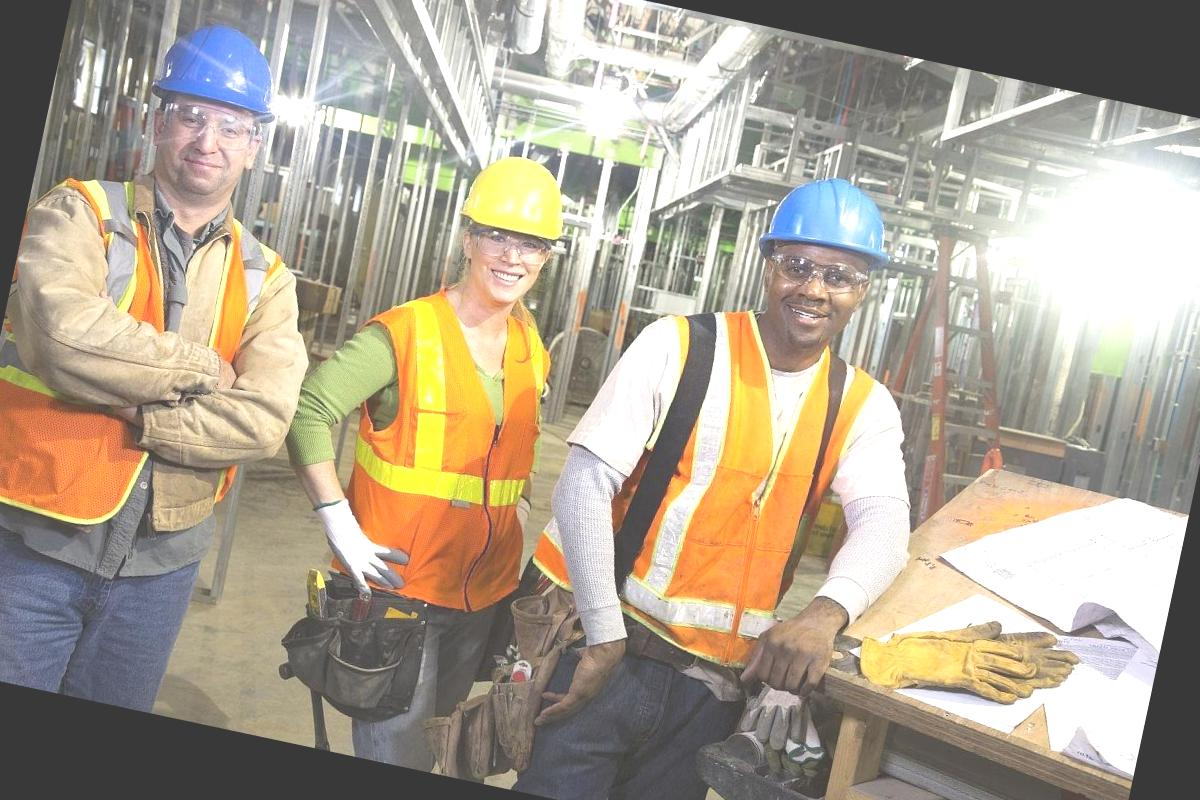helmet: (750, 160, 910, 273), (145, 10, 285, 118), (462, 149, 578, 244)
person: (488, 131, 938, 800), (0, 0, 372, 730), (273, 123, 646, 791)
